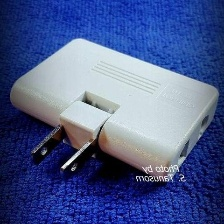three_eye_plug: (5, 32, 220, 192)
